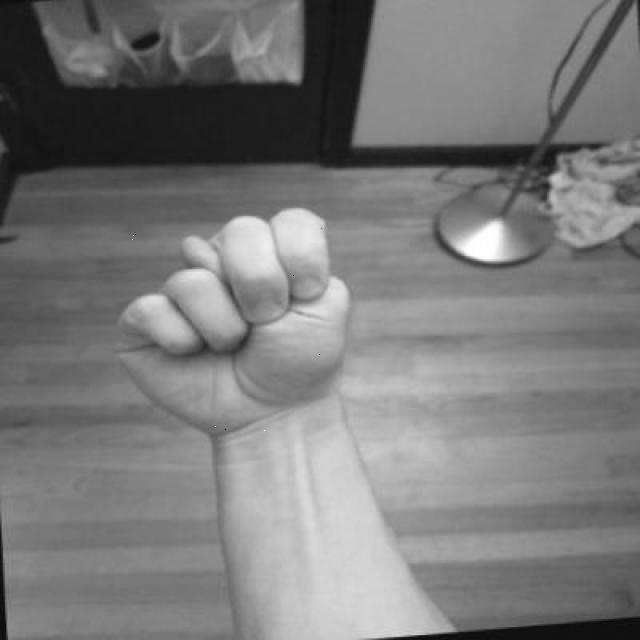N: (96, 200, 370, 450)
